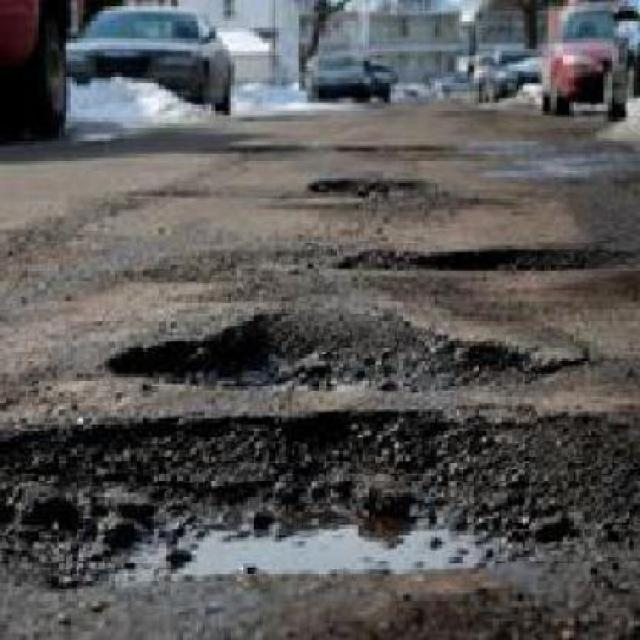pothole: (2, 408, 640, 611), (105, 307, 596, 396), (328, 237, 637, 273), (307, 171, 442, 204)
